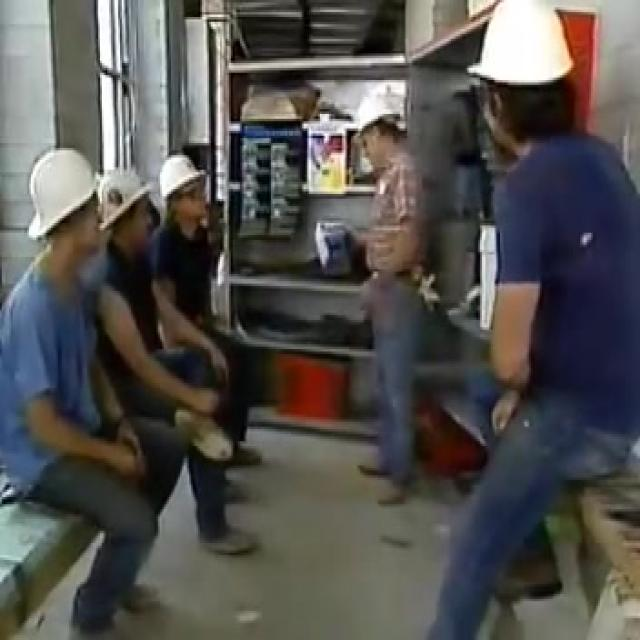Safety-Helmet: (460, 1, 591, 104), (20, 138, 105, 245), (347, 73, 422, 148), (96, 162, 162, 238), (152, 146, 212, 208)
